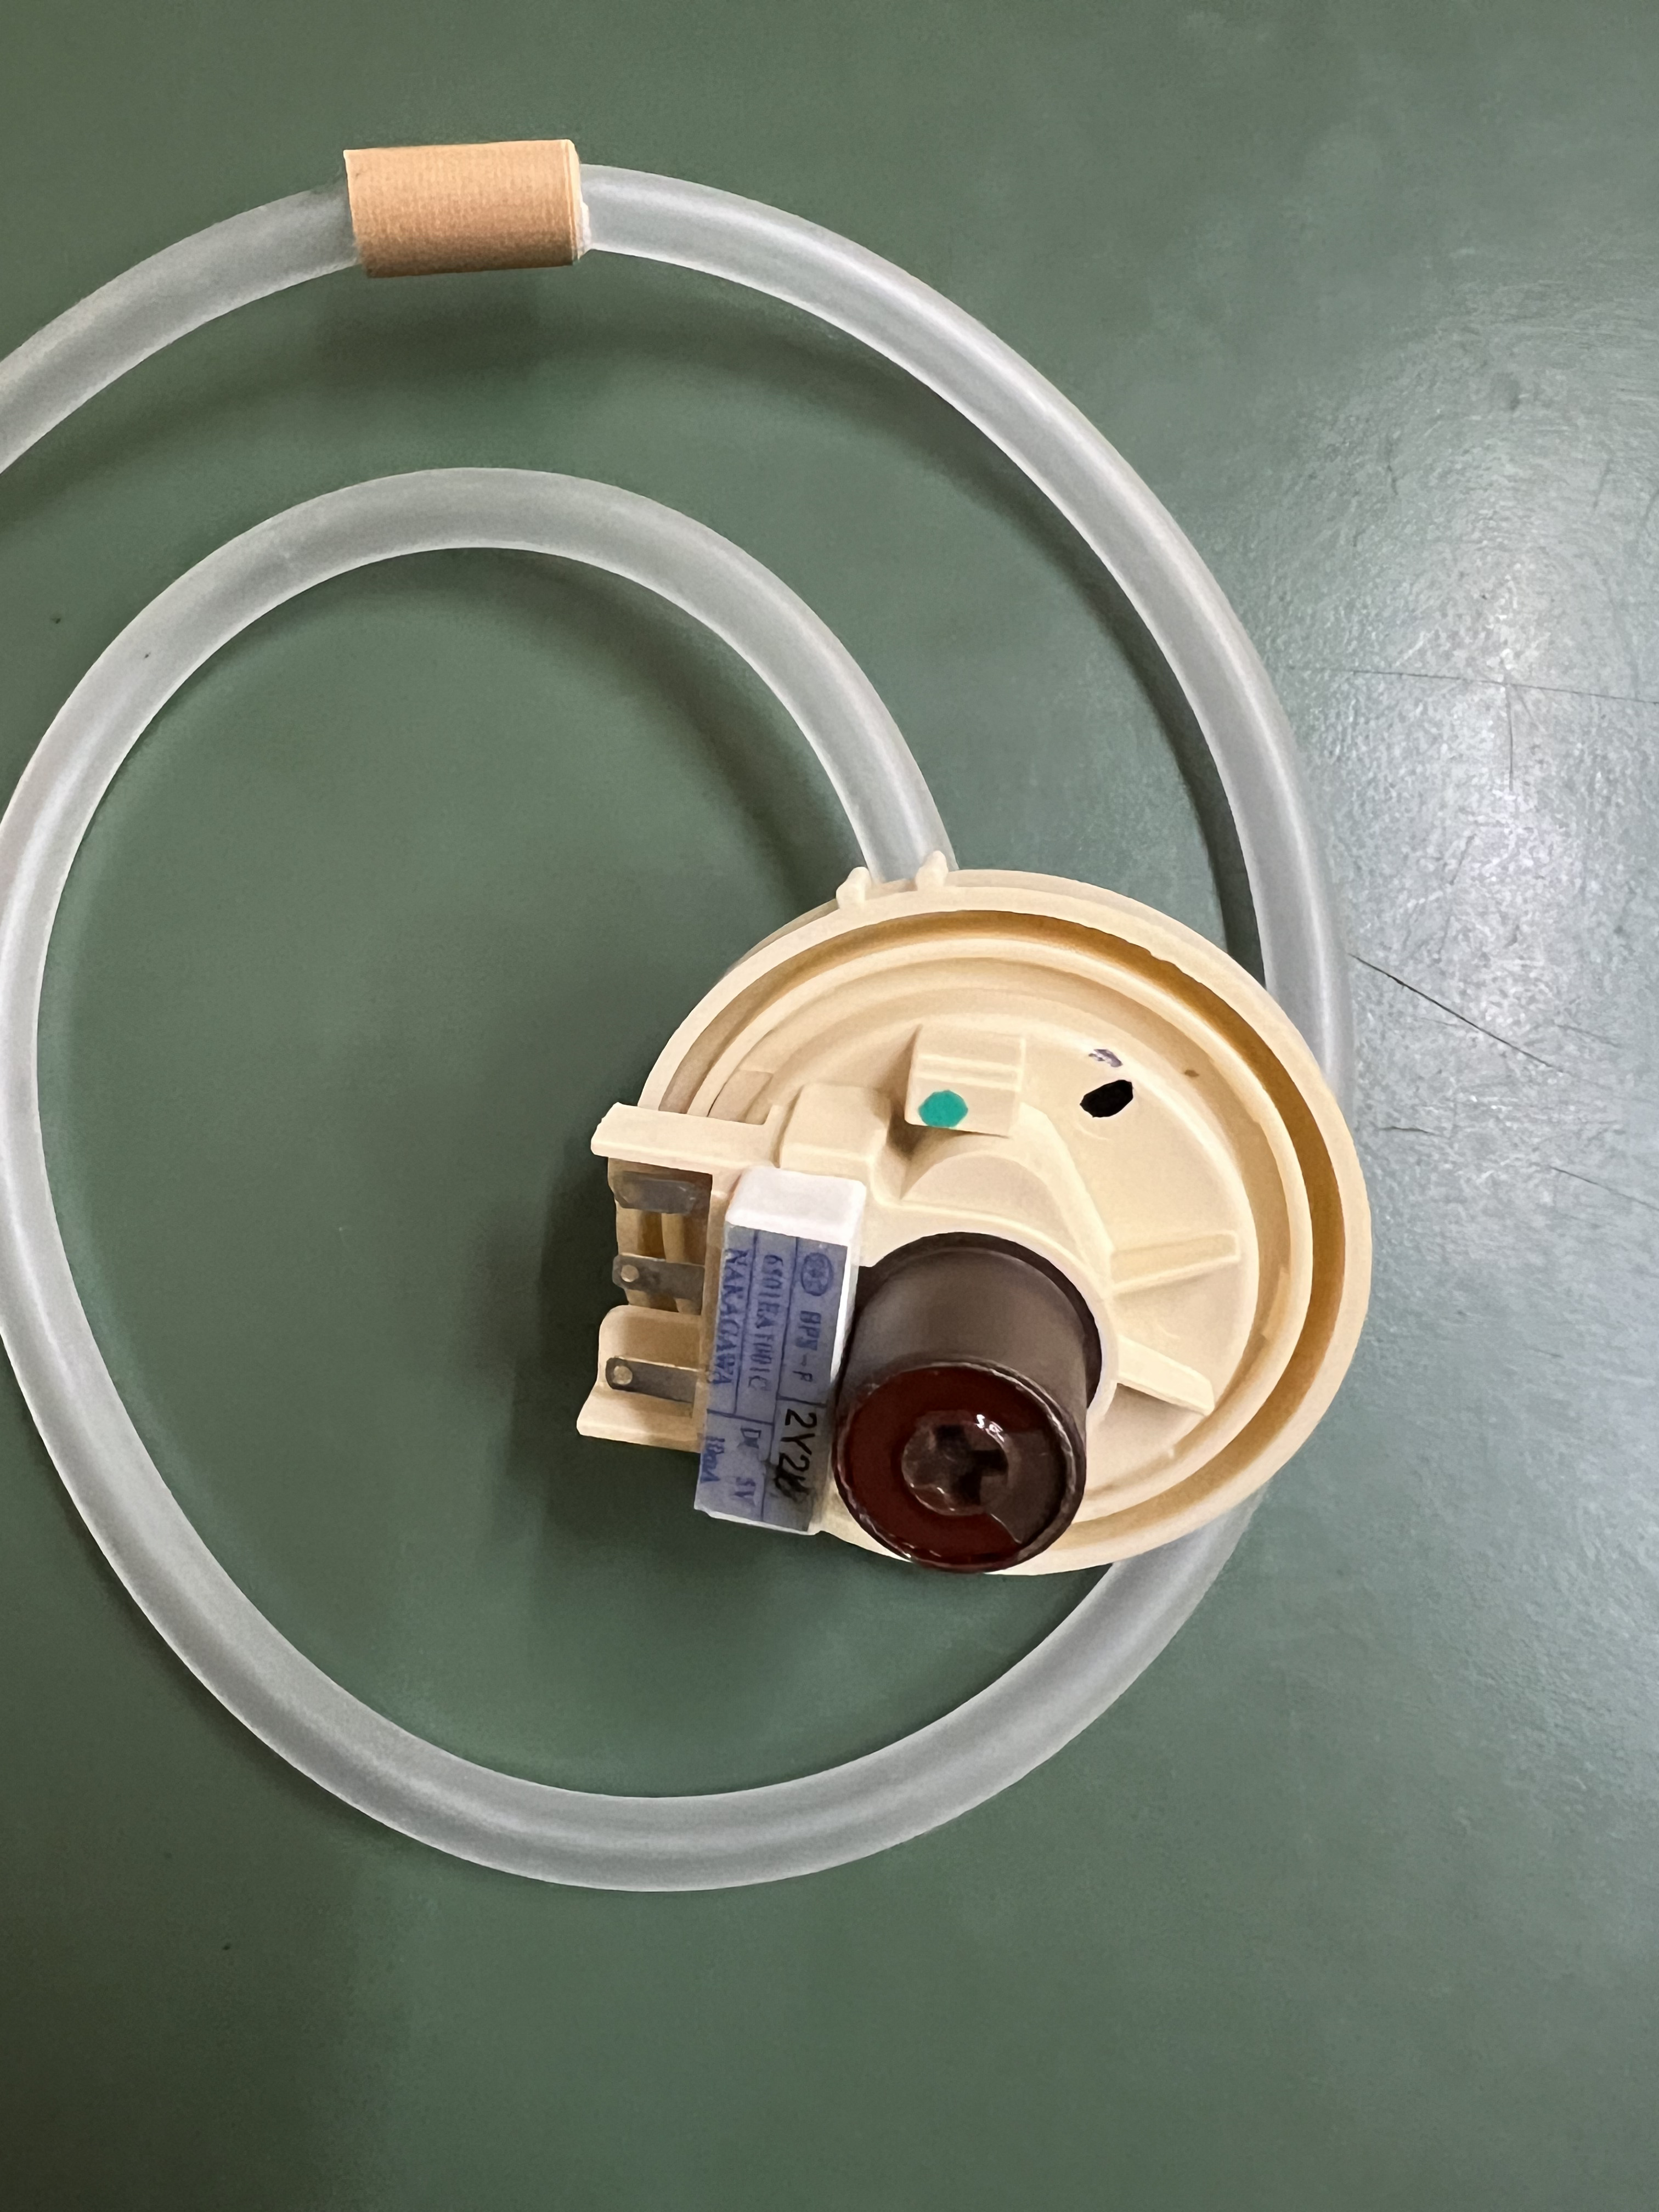pressure_sensor: (3, 132, 1408, 1898)
